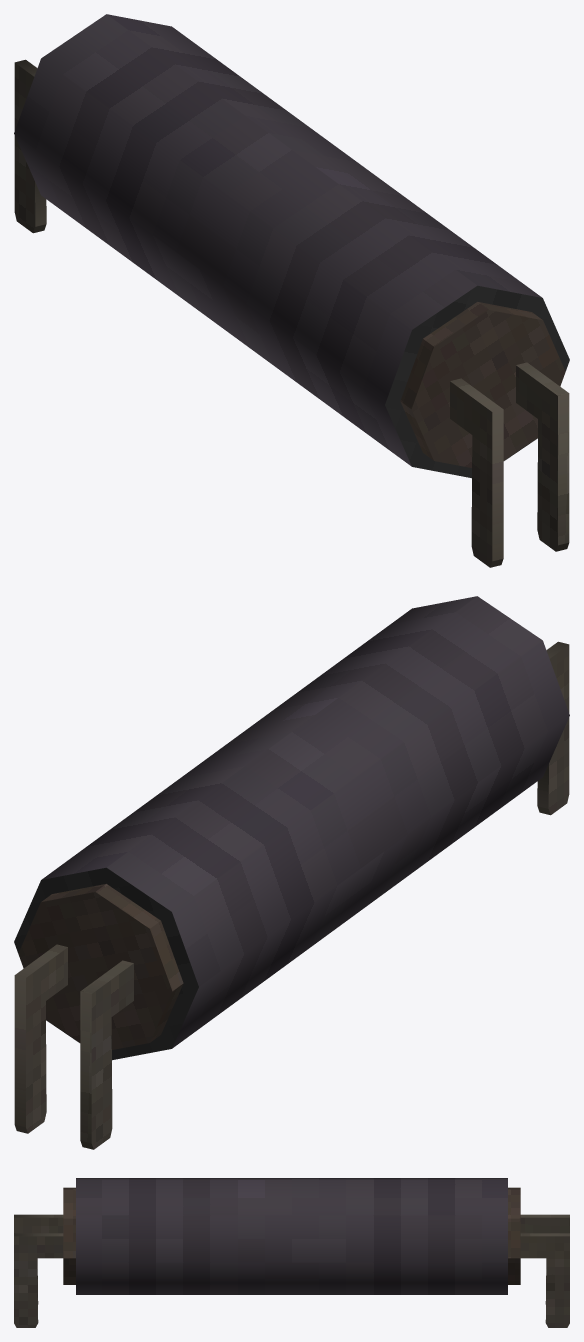
The model's file is capacitor_etx_5_2.glb.
The picture shows the model from 3 angles, top to bottom: view 1: azimuth 30°, elevation 25°; view 2: azimuth 150°, elevation 25°; view 3: azimuth 270°, elevation 25°; orthographic projection. The views are drawn at different scales.
Parts seen in each view (by area): view 1: capacitor_etx_5_2; view 2: capacitor_etx_5_2; view 3: capacitor_etx_5_2.
Part boxes in pixels (x1,y1,x2,y2): capacitor_etx_5_2: [14, 14, 569, 567]; capacitor_etx_5_2: [14, 596, 569, 1149]; capacitor_etx_5_2: [14, 1178, 569, 1327].
Size of the model in its own units: 0.0432 by 0.0525 by 0.1932.
Materials: 1 (1 with a texture image).
